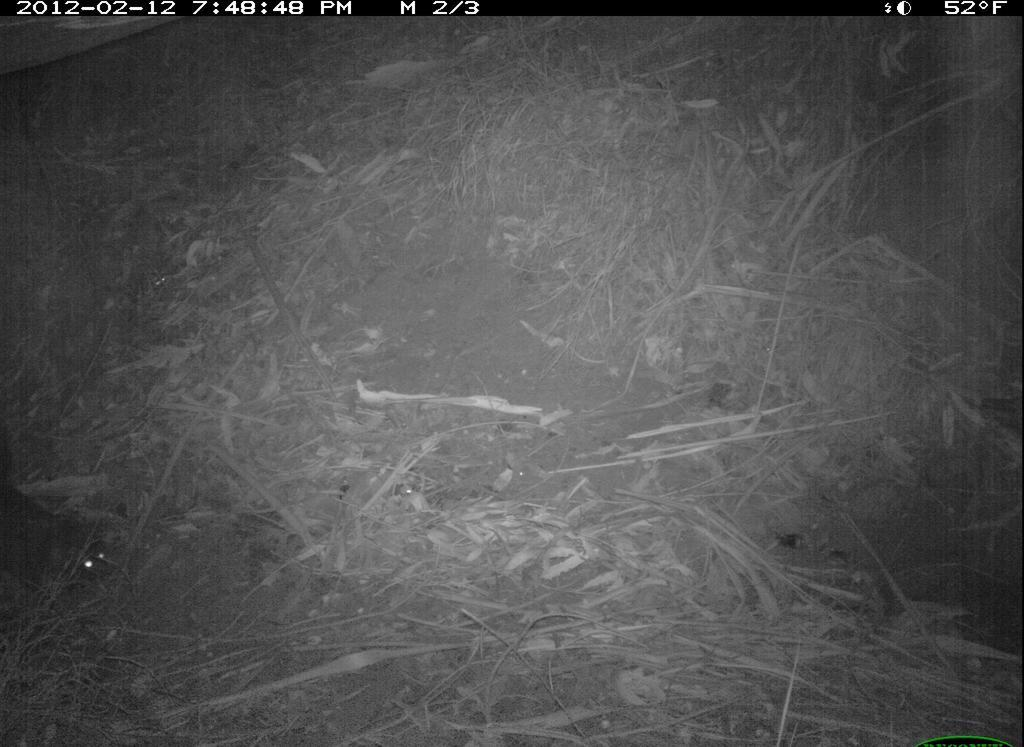cat: (1, 460, 141, 617)
